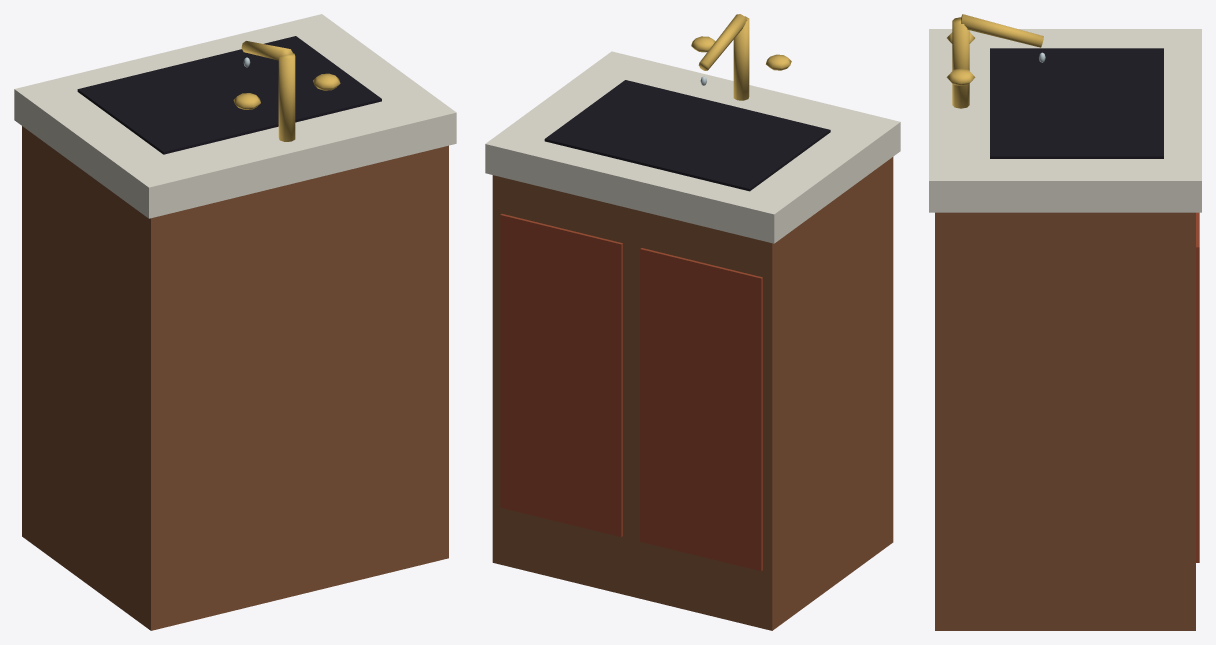
File: SM_PRP_Torneira.fbx
3 views of the same model, side by side, from view 1: azimuth 30°, elevation 25°; view 2: azimuth 150°, elevation 25°; view 3: azimuth 270°, elevation 25° (orthographic). The views are drawn at different scales.
Parts seen in each view (by area): view 1: SM_PRP_Torneira; view 2: SM_PRP_Torneira; view 3: SM_PRP_Torneira.
Boxes of the visible parts, <box> form: SM_PRP_Torneira: <box>14,14,456,630</box>; SM_PRP_Torneira: <box>485,14,900,630</box>; SM_PRP_Torneira: <box>929,14,1201,630</box>.
Size of the model in its own units: 0.62 by 1.03 by 0.47.
